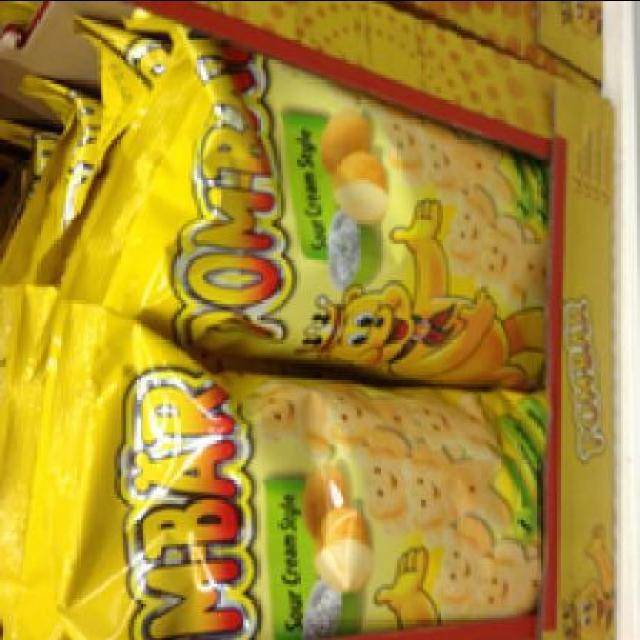Chips: (43, 303, 546, 639), (80, 28, 540, 384)
